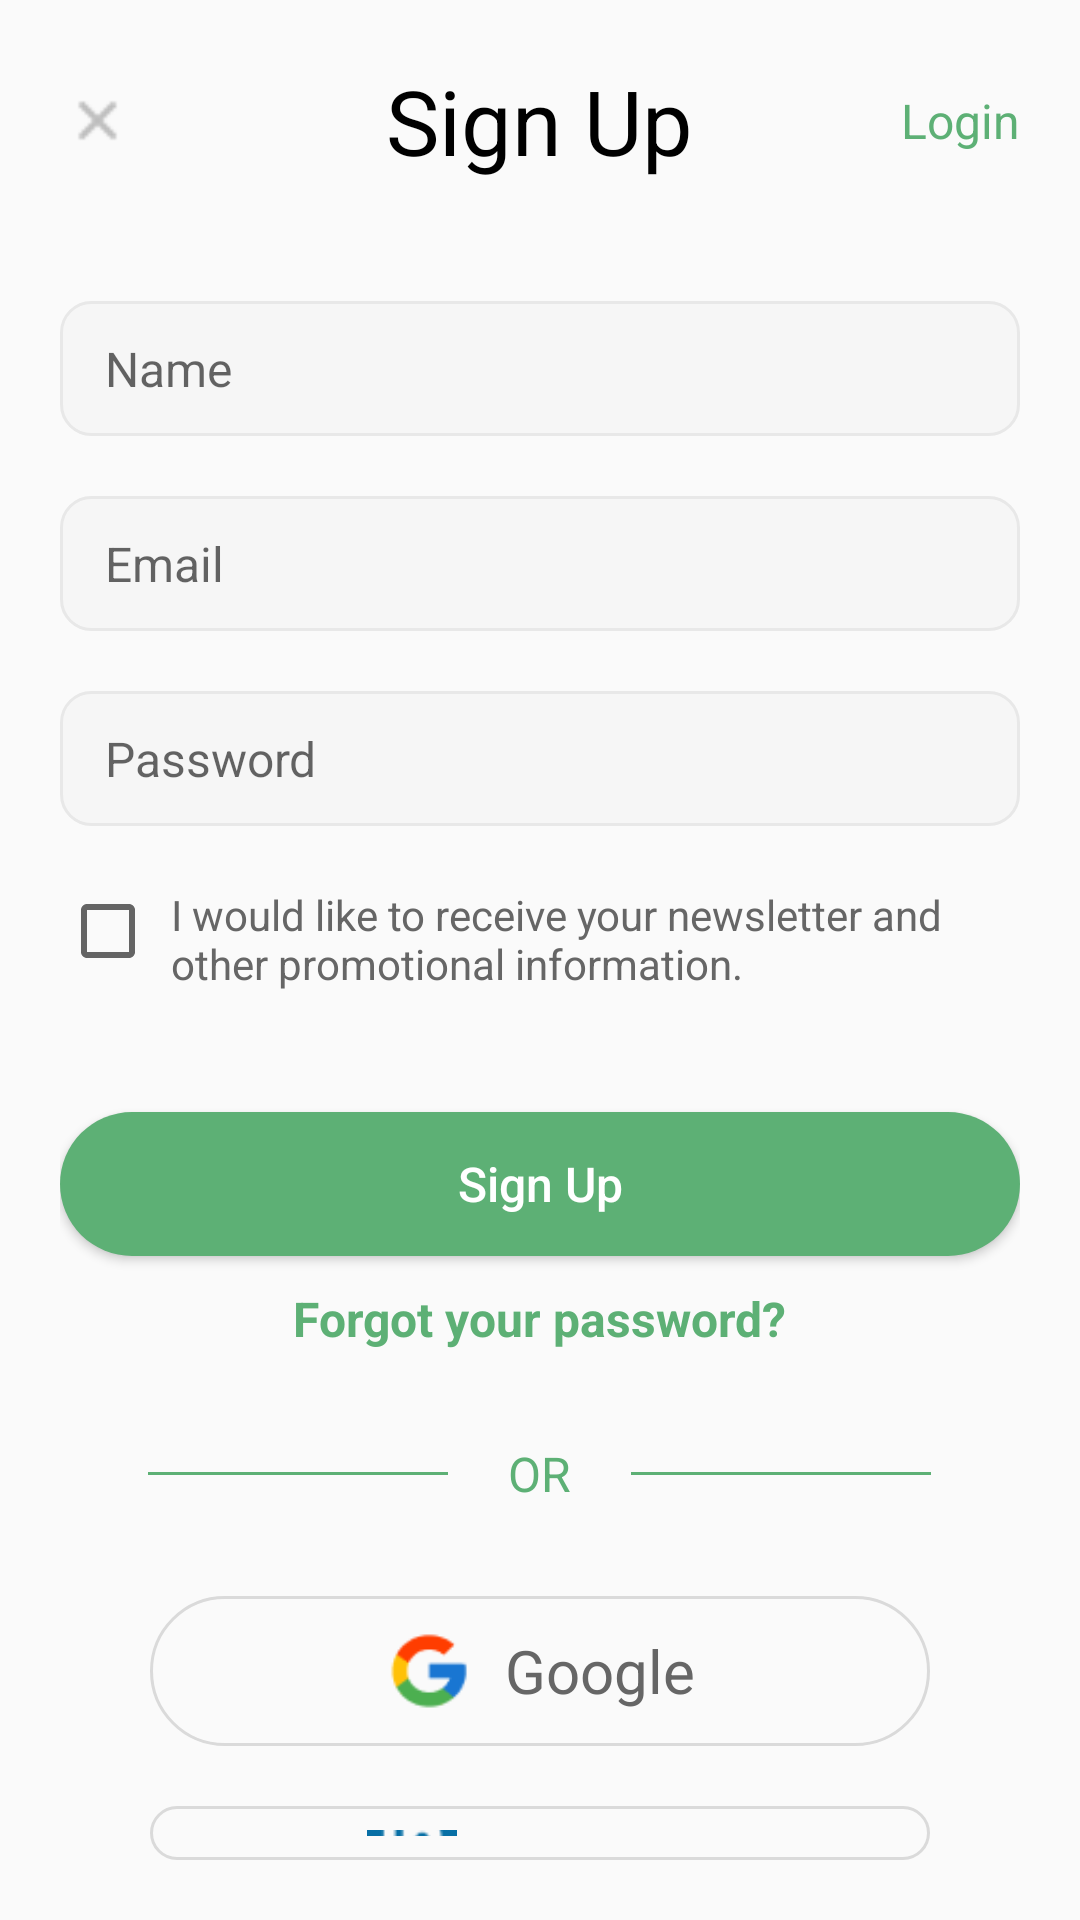

Icons on this 1080*1920 Android screen, each with its box as (x1, y1, x2, y2):
cross: (79, 102, 116, 139)
